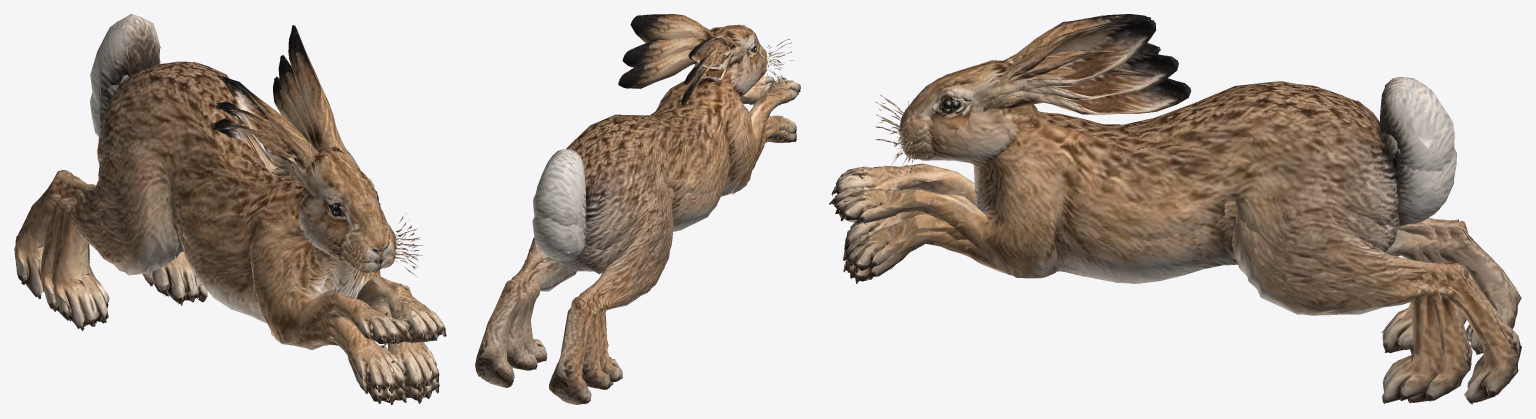
File: Hase_A_zwischen.glb
The picture shows the model from 3 angles, left to right: view 1: azimuth 30°, elevation 25°; view 2: azimuth 150°, elevation 25°; view 3: azimuth 270°, elevation 25°; orthographic projection. The views are drawn at different scales.
Visible parts, largest first — view 1: pose_07, pose_08, pose_09; view 2: pose_07, pose_08, pose_09; view 3: pose_07, pose_08, pose_09.
Part boxes in pixels (x1,y1,x2,y2): pose_07: [41, 14, 439, 393]; pose_08: [14, 46, 446, 344]; pose_09: [50, 25, 439, 404]; pose_07: [506, 24, 796, 389]; pose_08: [475, 24, 800, 404]; pose_09: [514, 14, 796, 381]; pose_07: [843, 43, 1472, 403]; pose_08: [829, 66, 1521, 404]; pose_09: [843, 14, 1456, 403].
Size of the model in its own units: 0.1227 by 0.2958 by 0.4961.
1 material, 1 textured.
